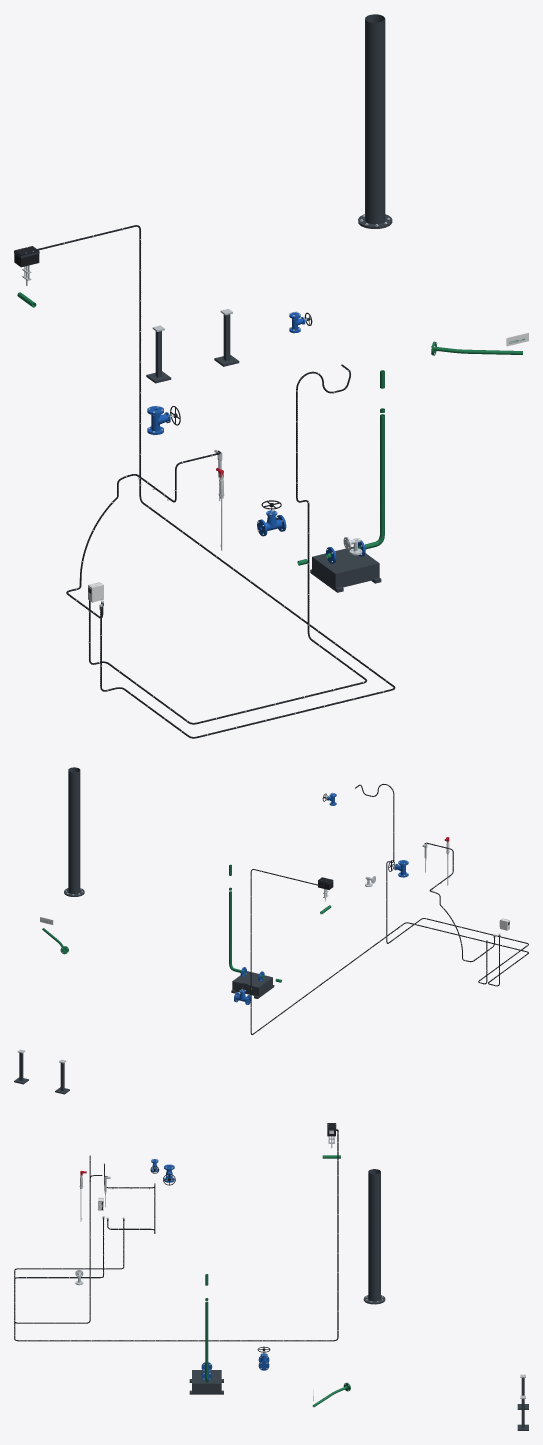
3 renders of one model, top to bottom at view 1: azimuth 30°, elevation 25°; view 2: azimuth 150°, elevation 25°; view 3: azimuth 270°, elevation 25°, orthographic. The views are drawn at different scales.
Parts seen in each view (by area): view 1: bdv_vent / dark, mod_eco_drive_cable / black, pump_branch_1 / dark, wiring_pressure_switch_3 / black, trap_support / dark, pump_branch_1 / green; view 2: bdv_vent / dark, mod_eco_drive_cable / black, wiring_pressure_switch_3 / black, pump_branch_1 / dark, trap_support / dark; view 3: bdv_vent / dark, mod_eco_drive_cable / black, wiring_pressure_switch_3 / black, pump_branch_1 / dark, pump_branch_1 / green.
Part boxes in pixels (x1,y1,x2,y2): bdv_vent / dark: (358,14,392,228); mod_eco_drive_cable / black: (37,225,395,738); pump_branch_1 / dark: (310,546,381,592); wiring_pressure_switch_3 / black: (88,364,367,724); trap_support / dark: (146,314,239,383); pump_branch_1 / green: (297,370,384,565); bdv_vent / dark: (64,767,84,896); mod_eco_drive_cable / black: (250,869,528,1034); wiring_pressure_switch_3 / black: (355,784,528,984); pump_branch_1 / dark: (231,971,274,998); trap_support / dark: (14,1053,69,1094); bdv_vent / dark: (363,1169,385,1304); mod_eco_drive_cable / black: (14,1130,338,1341); wiring_pressure_switch_3 / black: (14,1155,124,1323); pump_branch_1 / dark: (189,1370,223,1394); pump_branch_1 / green: (205,1274,208,1382).
Bounding box in the file's own units: 5.81 × 3.85 × 6.75.
